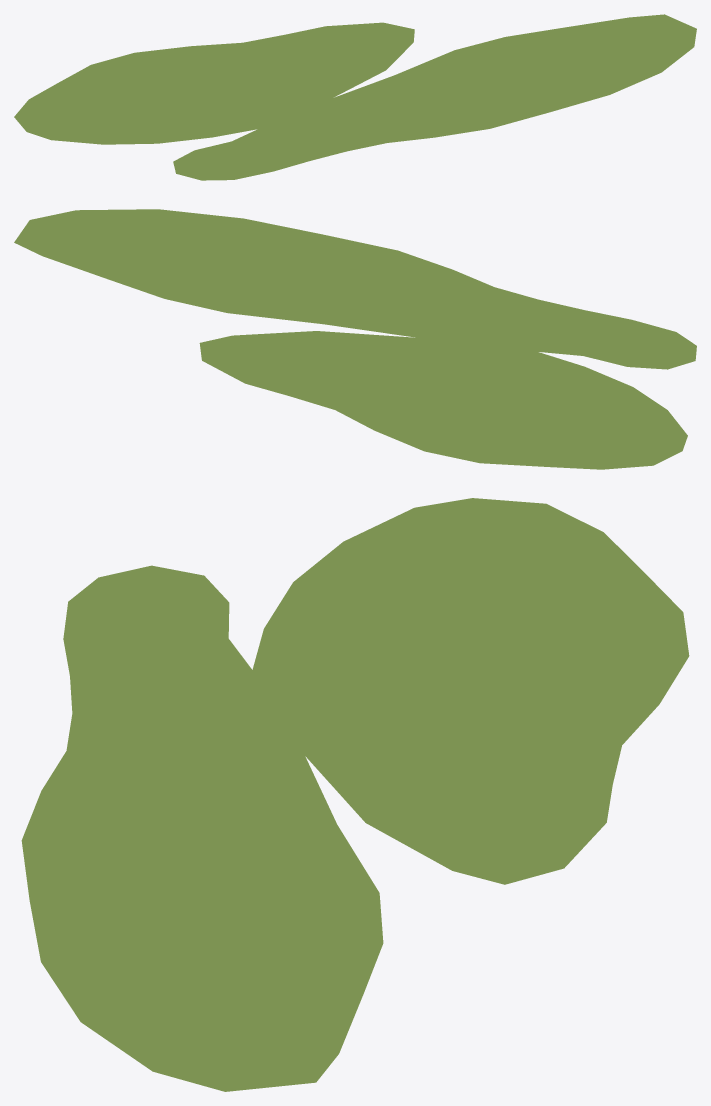
The model's file is Mesh_Battle_Forest_Ground_15.FBX.
3 renders of one model, top to bottom at view 1: azimuth 30°, elevation 25°; view 2: azimuth 150°, elevation 25°; view 3: azimuth 270°, elevation 25°, orthographic. The views are drawn at different scales.
Visible parts, largest first — view 1: Mesh_Battle_Forest_Ground_15; view 2: Mesh_Battle_Forest_Ground_15; view 3: Mesh_Battle_Forest_Ground_15.
Boxes of the visible parts, left/top/right/bottom form: Mesh_Battle_Forest_Ground_15: left=14, top=14, right=696, bottom=180; Mesh_Battle_Forest_Ground_15: left=14, top=209, right=696, bottom=469; Mesh_Battle_Forest_Ground_15: left=21, top=498, right=689, bottom=1091.
Bounding box in the file's own units: 120 × 9.54e-07 × 56.98.
